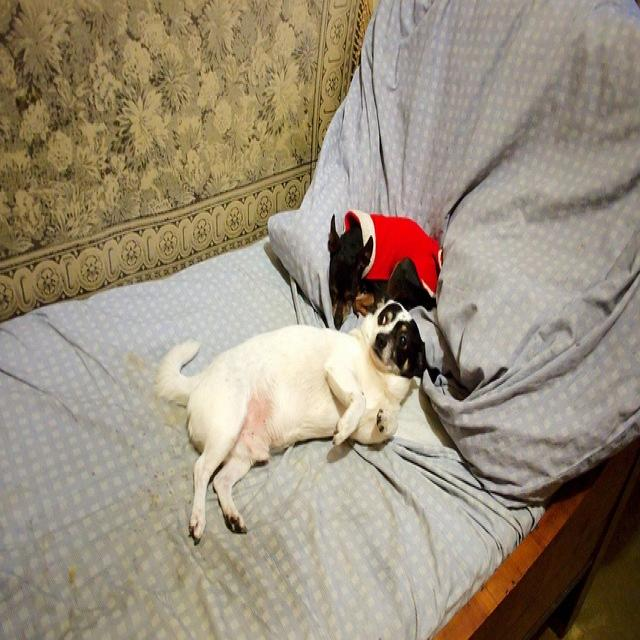dog: (155, 292, 435, 538), (318, 202, 443, 321)
